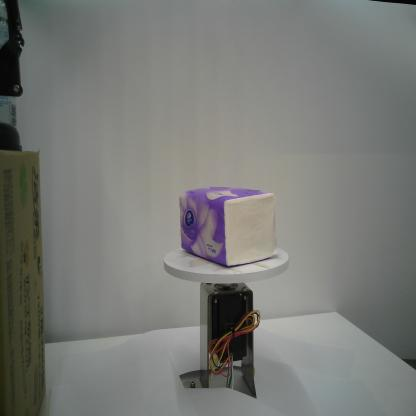Tissue: (177, 183, 279, 268)
